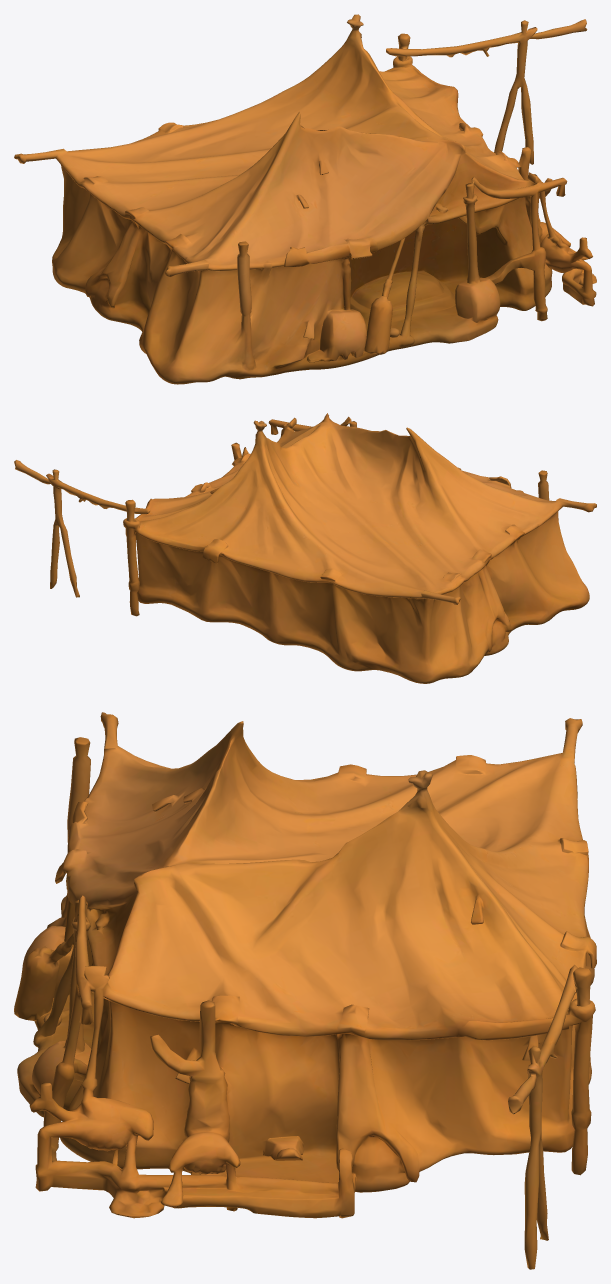
Rendered from tent.glb.
3 views of the same model, one above another, from view 1: azimuth 30°, elevation 25°; view 2: azimuth 150°, elevation 25°; view 3: azimuth 270°, elevation 25° (orthographic). The views are drawn at different scales.
Visible parts, largest first — view 1: tripo_node_9a3259fb-f9cf-41b1-9def-2d5f325b9bc5; view 2: tripo_node_9a3259fb-f9cf-41b1-9def-2d5f325b9bc5; view 3: tripo_node_9a3259fb-f9cf-41b1-9def-2d5f325b9bc5.
Part boxes in pixels (x1,y1,x2,y2): tripo_node_9a3259fb-f9cf-41b1-9def-2d5f325b9bc5: [14, 14, 596, 384]; tripo_node_9a3259fb-f9cf-41b1-9def-2d5f325b9bc5: [14, 413, 596, 683]; tripo_node_9a3259fb-f9cf-41b1-9def-2d5f325b9bc5: [14, 712, 596, 1269].
Bounding box in the file's own units: 3 × 1.19 × 1.8.
Materials: 1 (1 with a texture image).
